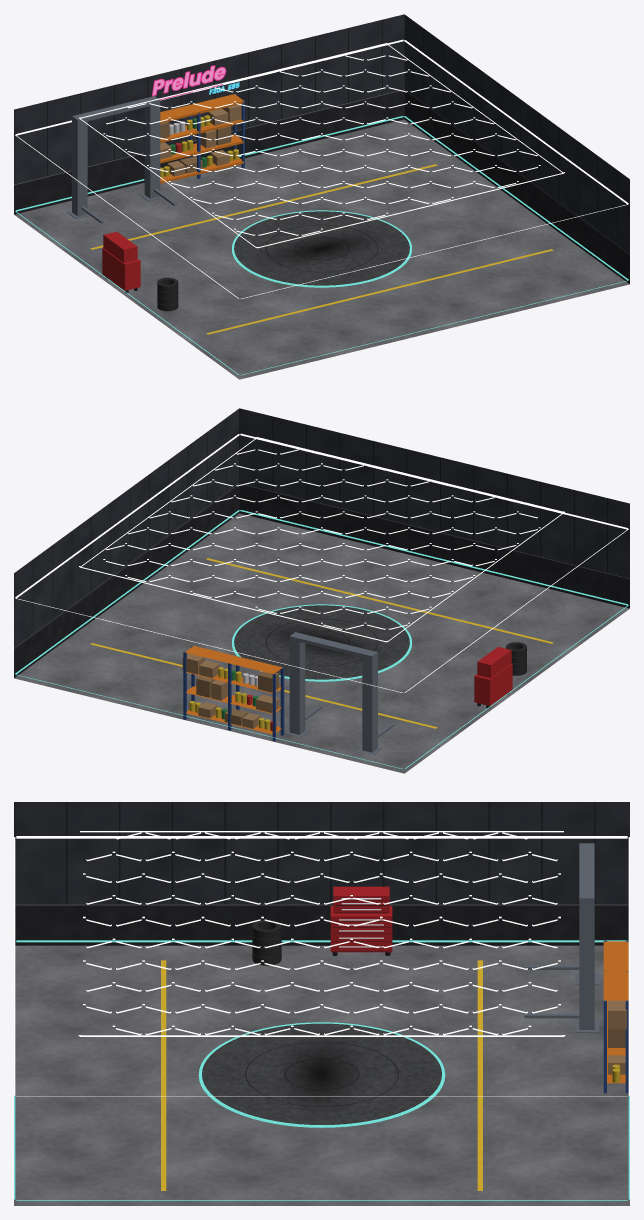
The model's file is garage.glb.
The picture shows the model from 3 angles, top to bottom: view 1: azimuth 30°, elevation 25°; view 2: azimuth 150°, elevation 25°; view 3: azimuth 270°, elevation 25°; orthographic projection. The views are drawn at different scales.
Parts seen in each view (by area): view 1: garage_floor, garage_static, turntable_top, hex_lights, blob_shadow, accent_strip, neon_sign, accent_ring; view 2: garage_static, garage_floor, hex_lights, turntable_top, accent_strip, blob_shadow, accent_ring; view 3: garage_floor, garage_static, turntable_top, hex_lights, blob_shadow, accent_strip, accent_ring.
Part boxes in pixels (x1,y1,x2,y2): garage_floor: (14,119,629,379); garage_static: (14,14,629,334); turntable_top: (234,211,409,285); hex_lights: (15,39,628,298); blob_shadow: (269,232,374,263); accent_strip: (15,116,628,375); neon_sign: (151,65,239,99); accent_ring: (232,210,411,287); garage_static: (14,408,629,754); garage_floor: (14,513,629,773); hex_lights: (15,433,628,692); turntable_top: (234,605,409,679); accent_strip: (15,510,628,769); blob_shadow: (269,626,374,657); accent_ring: (232,604,411,681); garage_floor: (14,945,629,1205); garage_static: (14,802,629,1190); turntable_top: (202,1023,441,1124); hex_lights: (14,831,629,1096); blob_shadow: (285,1040,358,1108); accent_strip: (14,940,629,1200); accent_ring: (198,1022,445,1127).
Size of the model in its own units: 14 by 3.6 by 14.
Materials: 24 (5 with a texture image).
